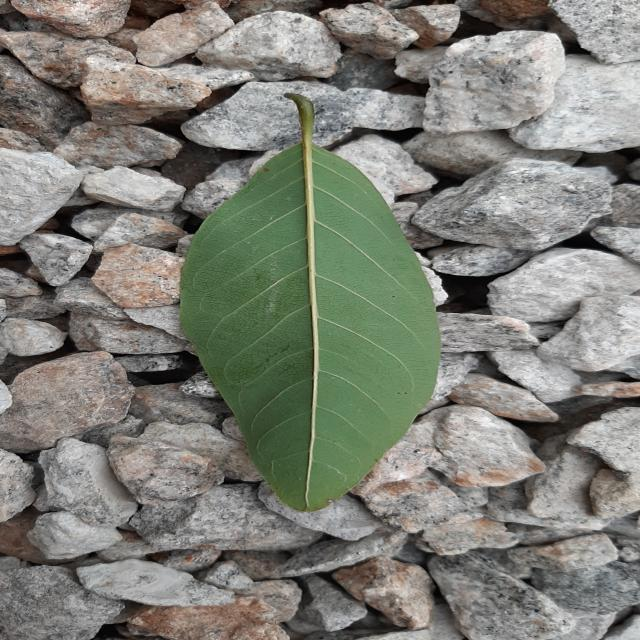seethaphala: (182, 135, 439, 511)
